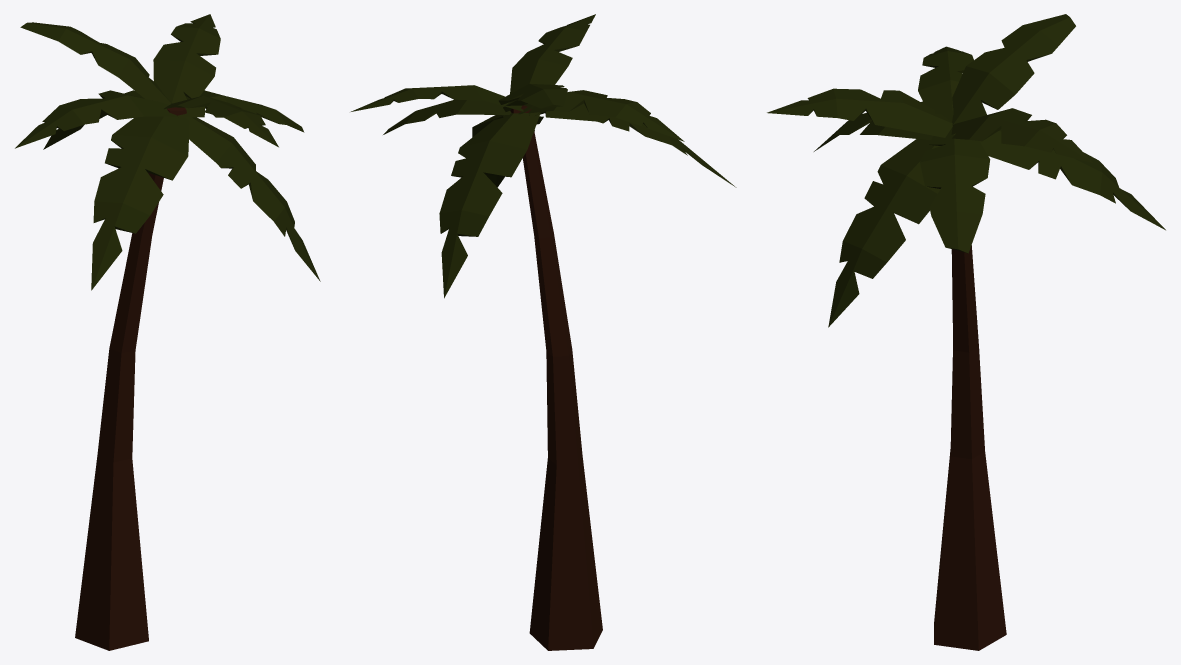
File: PalmTree4.fbx.glb
3 renders of one model, left to right at view 1: azimuth 30°, elevation 25°; view 2: azimuth 150°, elevation 25°; view 3: azimuth 270°, elevation 25°, orthographic. The views are drawn at different scales.
Parts seen in each view (by area): view 1: PalmTree4; view 2: PalmTree4; view 3: PalmTree4.
Boxes of the visible parts, x1,y1,x2,y2 form: PalmTree4: (15,14,320,650); PalmTree4: (351,14,736,650); PalmTree4: (767,14,1165,650).
Size of the model in its own units: 264 by 499 by 302.
